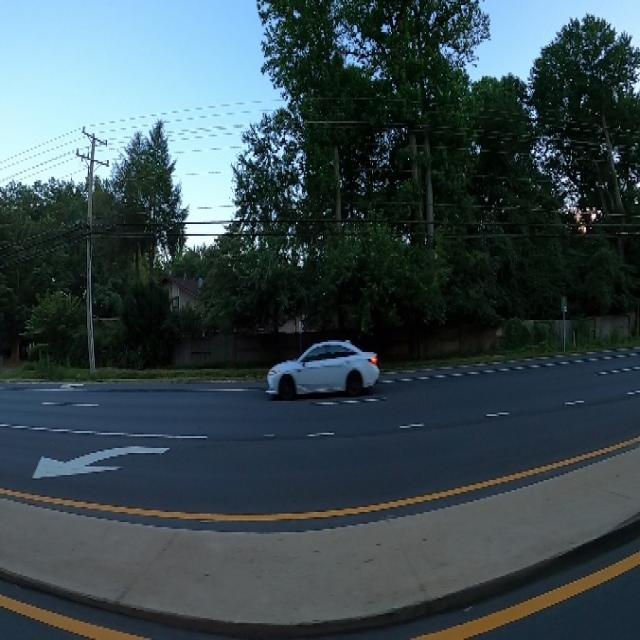car: (261, 332, 384, 411)
